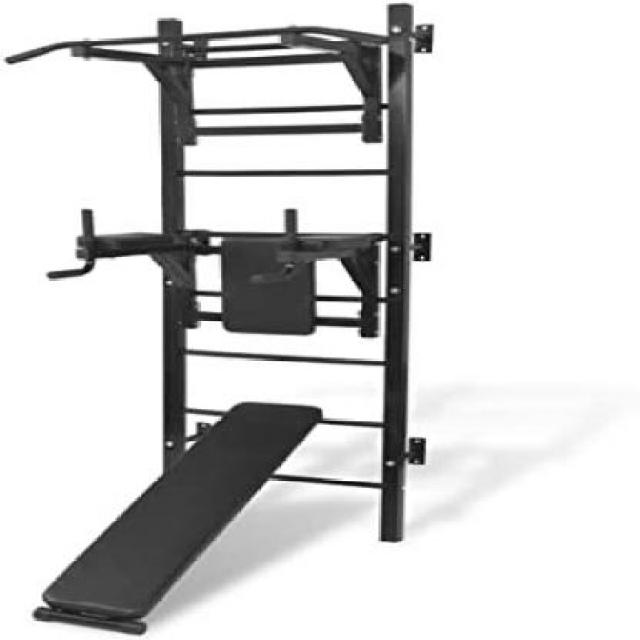chinning dipping: (12, 4, 430, 544)
